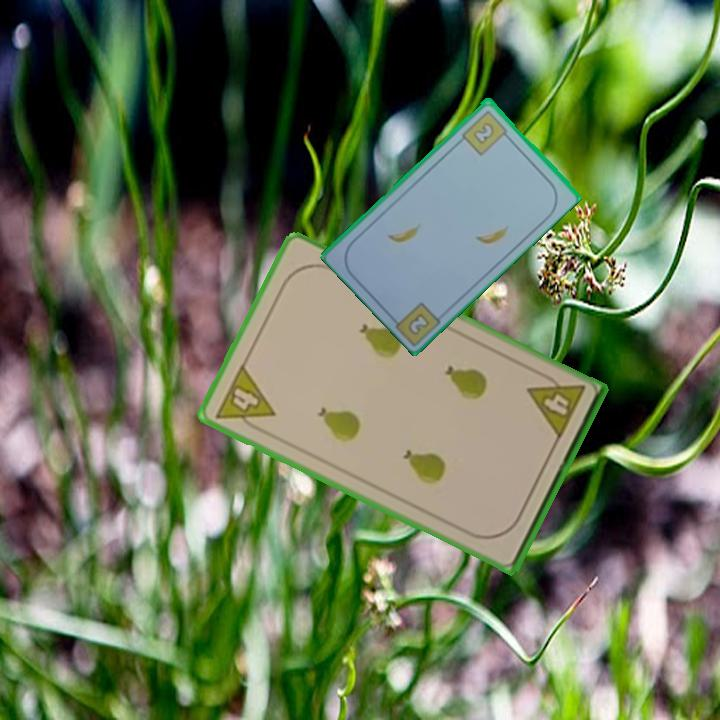2b: (458, 106, 513, 158), (404, 309, 432, 338)
4p: (211, 360, 278, 438), (523, 367, 588, 443)
